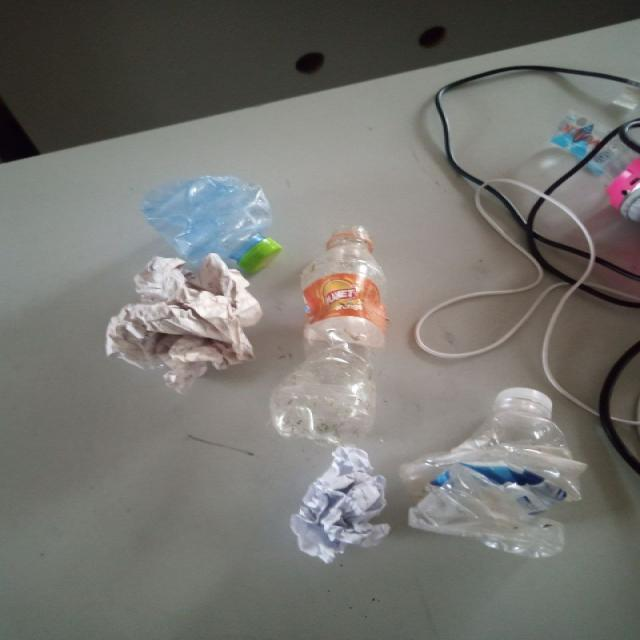Paper: (107, 254, 261, 395), (289, 447, 392, 565)
Plastic: (397, 387, 587, 559), (271, 227, 388, 445), (140, 175, 283, 282)
